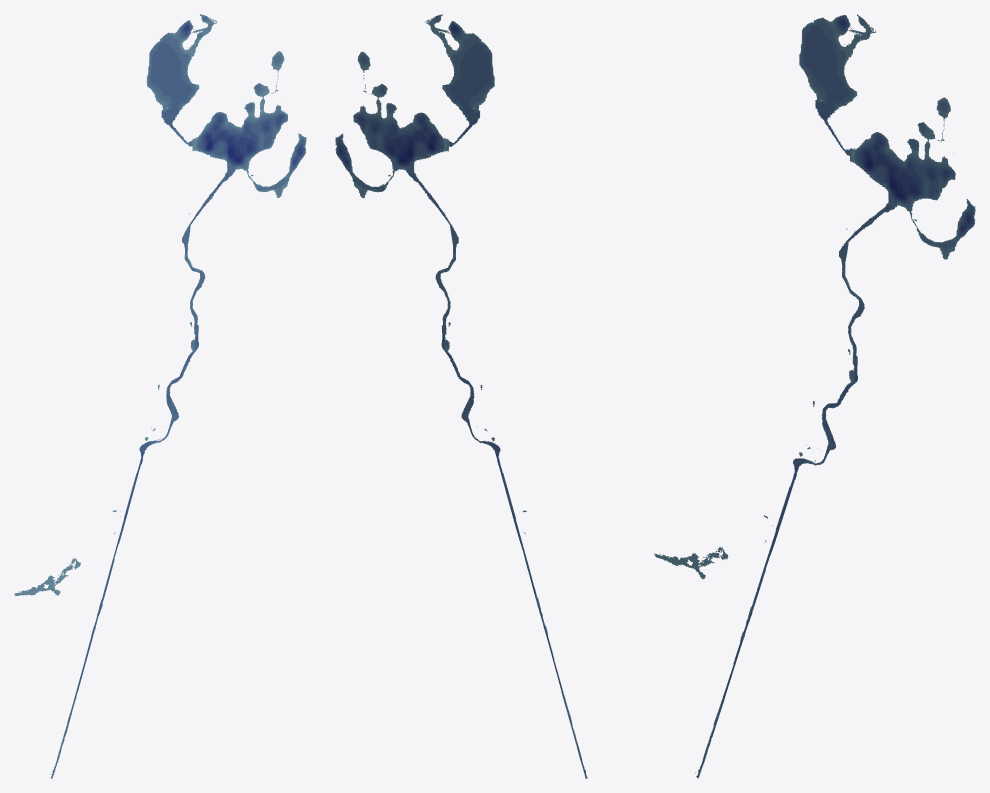
The model's file is triangle_mesh.glb.
3 views of the same model, side by side, from view 1: azimuth 30°, elevation 25°; view 2: azimuth 150°, elevation 25°; view 3: azimuth 330°, elevation 25° (orthographic). The views are drawn at different scales.
Parts seen in each view (by area): view 1: world; view 2: world; view 3: world.
Part boxes in pixels (left/top/right/bottom): world: left=14, top=14, right=306, bottom=778; world: left=335, top=14, right=587, bottom=778; world: left=654, top=14, right=975, bottom=778.
Size of the model in its own units: 1147 by 2739 by 13.99.
